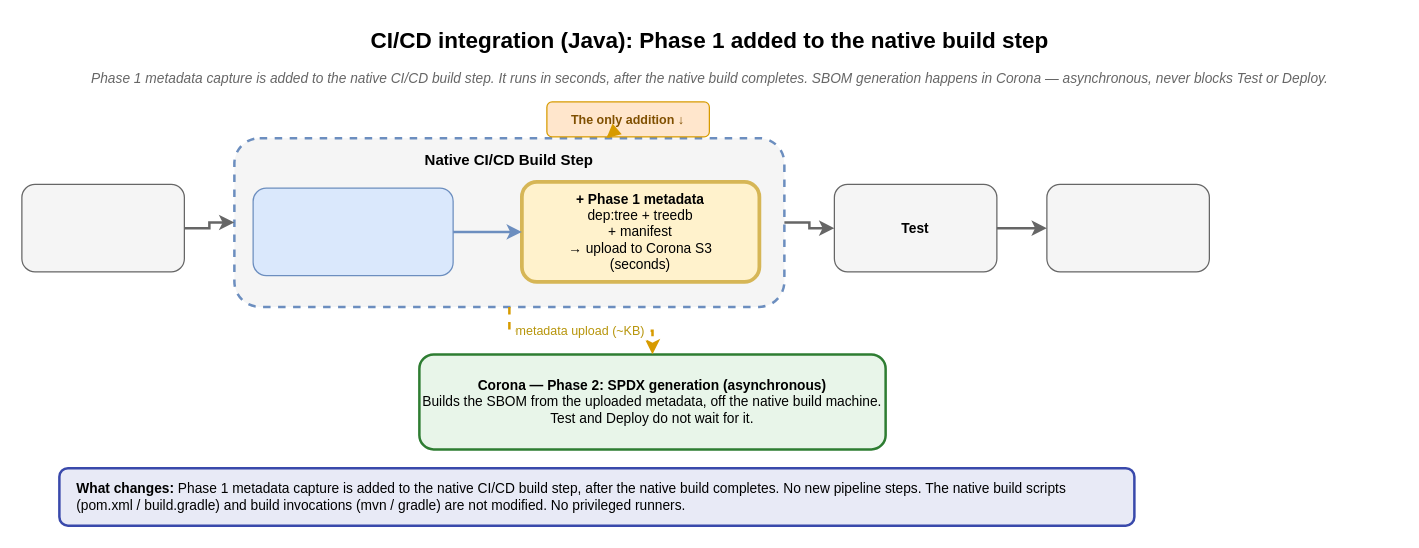
Some shapes in this 1419 by 548 pixel diagram are drawn without their labels. The centre of each missing label's shape, as x and y in pixels:
Checkout: pixel 102 227
Deploy: pixel 1127 227
Native Build mvn package / gradle build (no changes): pixel 352 231
